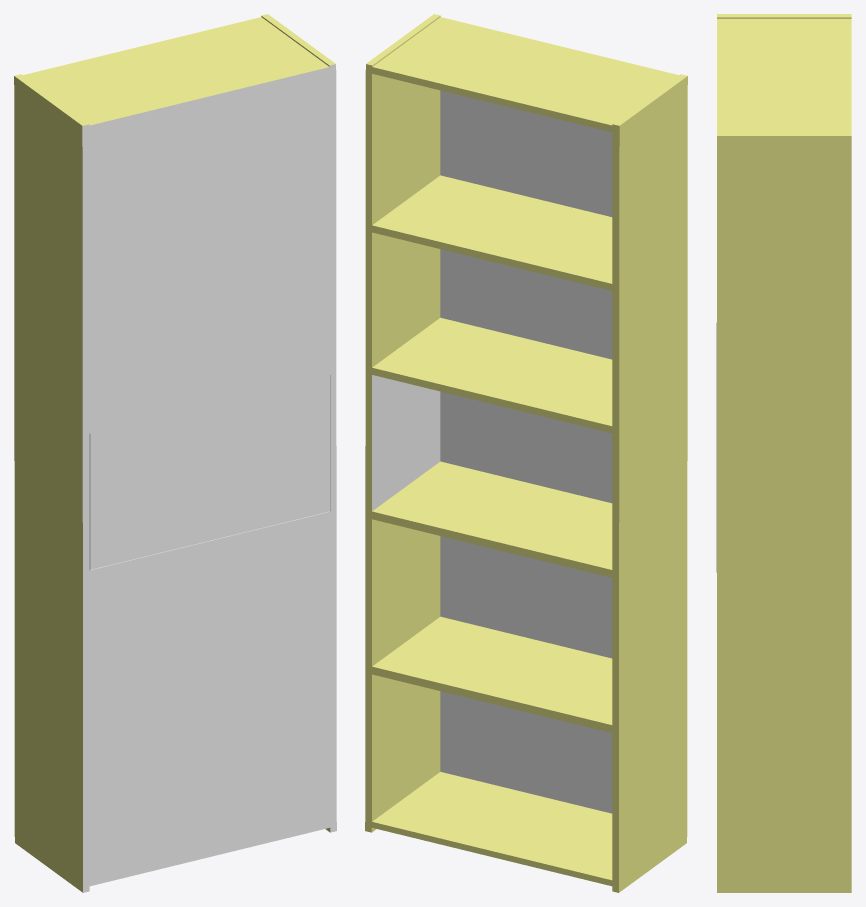
3 views of the same model, side by side, from view 1: azimuth 30°, elevation 25°; view 2: azimuth 150°, elevation 25°; view 3: azimuth 270°, elevation 25° (orthographic).
Parts seen in each view (by area): view 1: Mesh1 Ikea_Kilby_Bookcase1 Model; view 2: Mesh1 Ikea_Kilby_Bookcase1 Model; view 3: Mesh1 Ikea_Kilby_Bookcase1 Model.
Part boxes in pixels (<box>): Mesh1 Ikea_Kilby_Bookcase1 Model: <box>14,14,336,892</box>; Mesh1 Ikea_Kilby_Bookcase1 Model: <box>365,14,687,892</box>; Mesh1 Ikea_Kilby_Bookcase1 Model: <box>716,14,851,892</box>.
Bounding box in the file's own units: 0.324 × 0.9338 × 0.1516.
